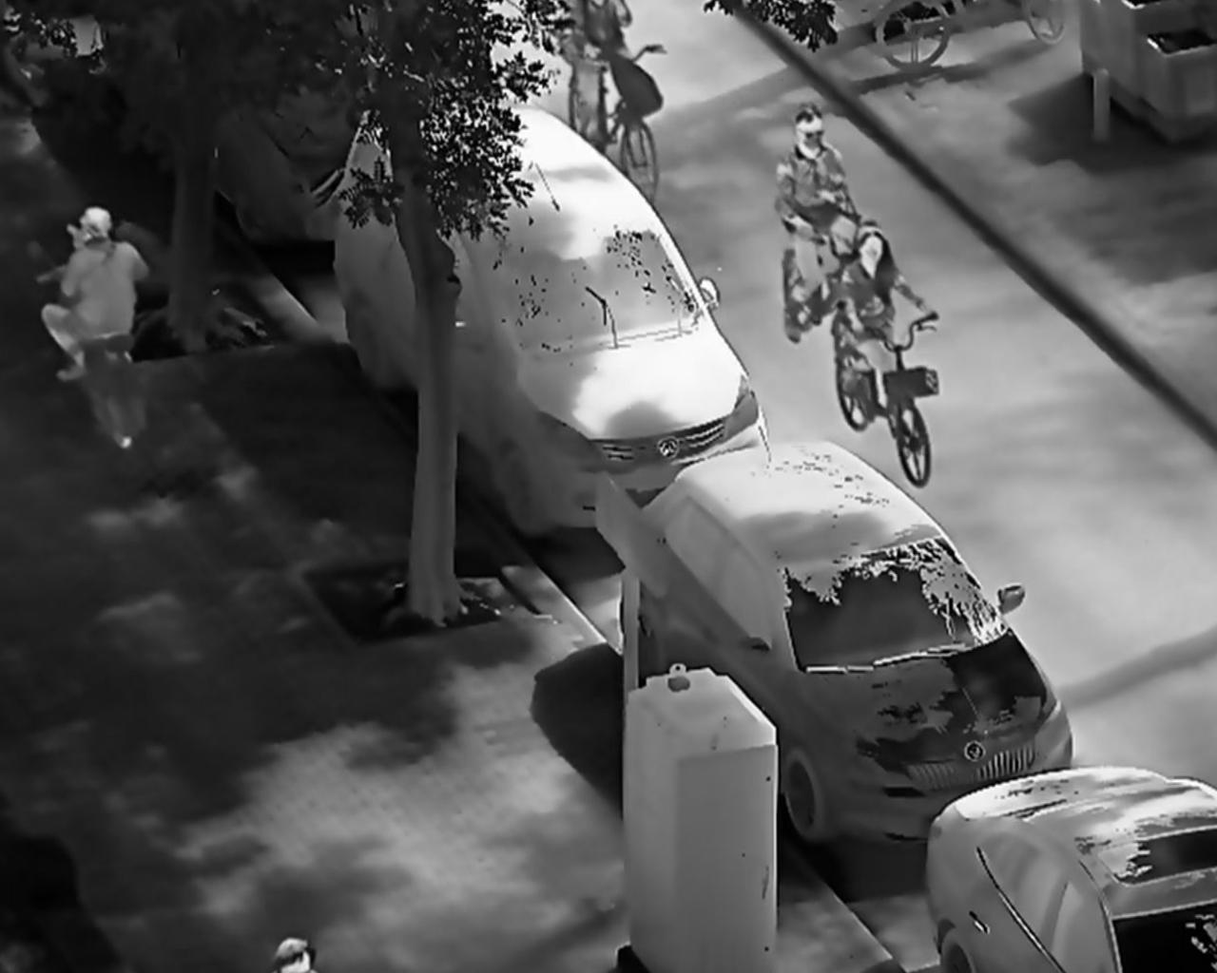person: (39, 200, 163, 386), (774, 101, 869, 329), (835, 220, 940, 410)
